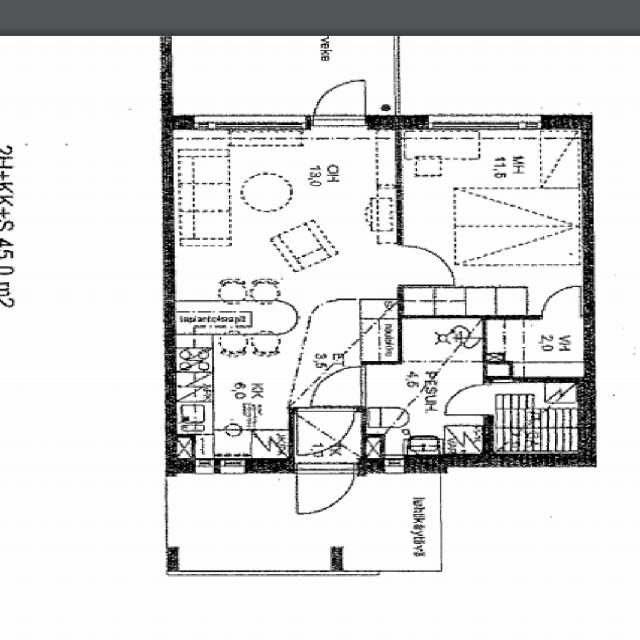door: (296, 458, 354, 518), (312, 73, 366, 129), (296, 407, 354, 457), (398, 246, 453, 284), (312, 366, 366, 404), (445, 385, 492, 414), (542, 286, 580, 320)
